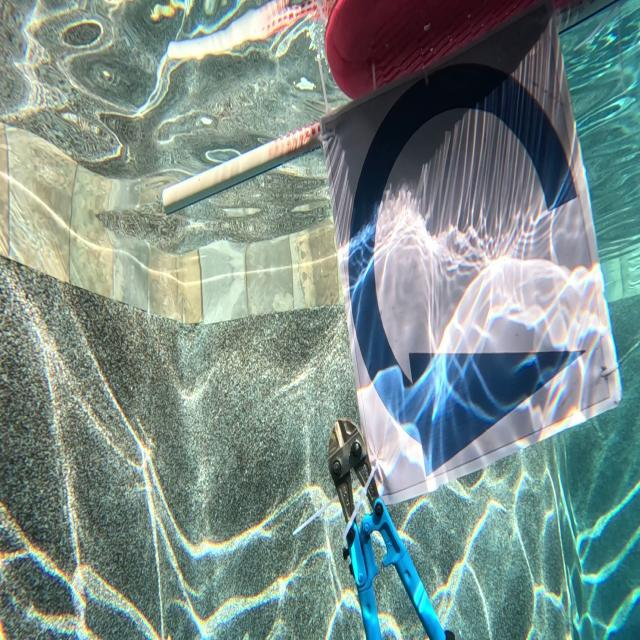blue_side: (310, 4, 620, 508)
